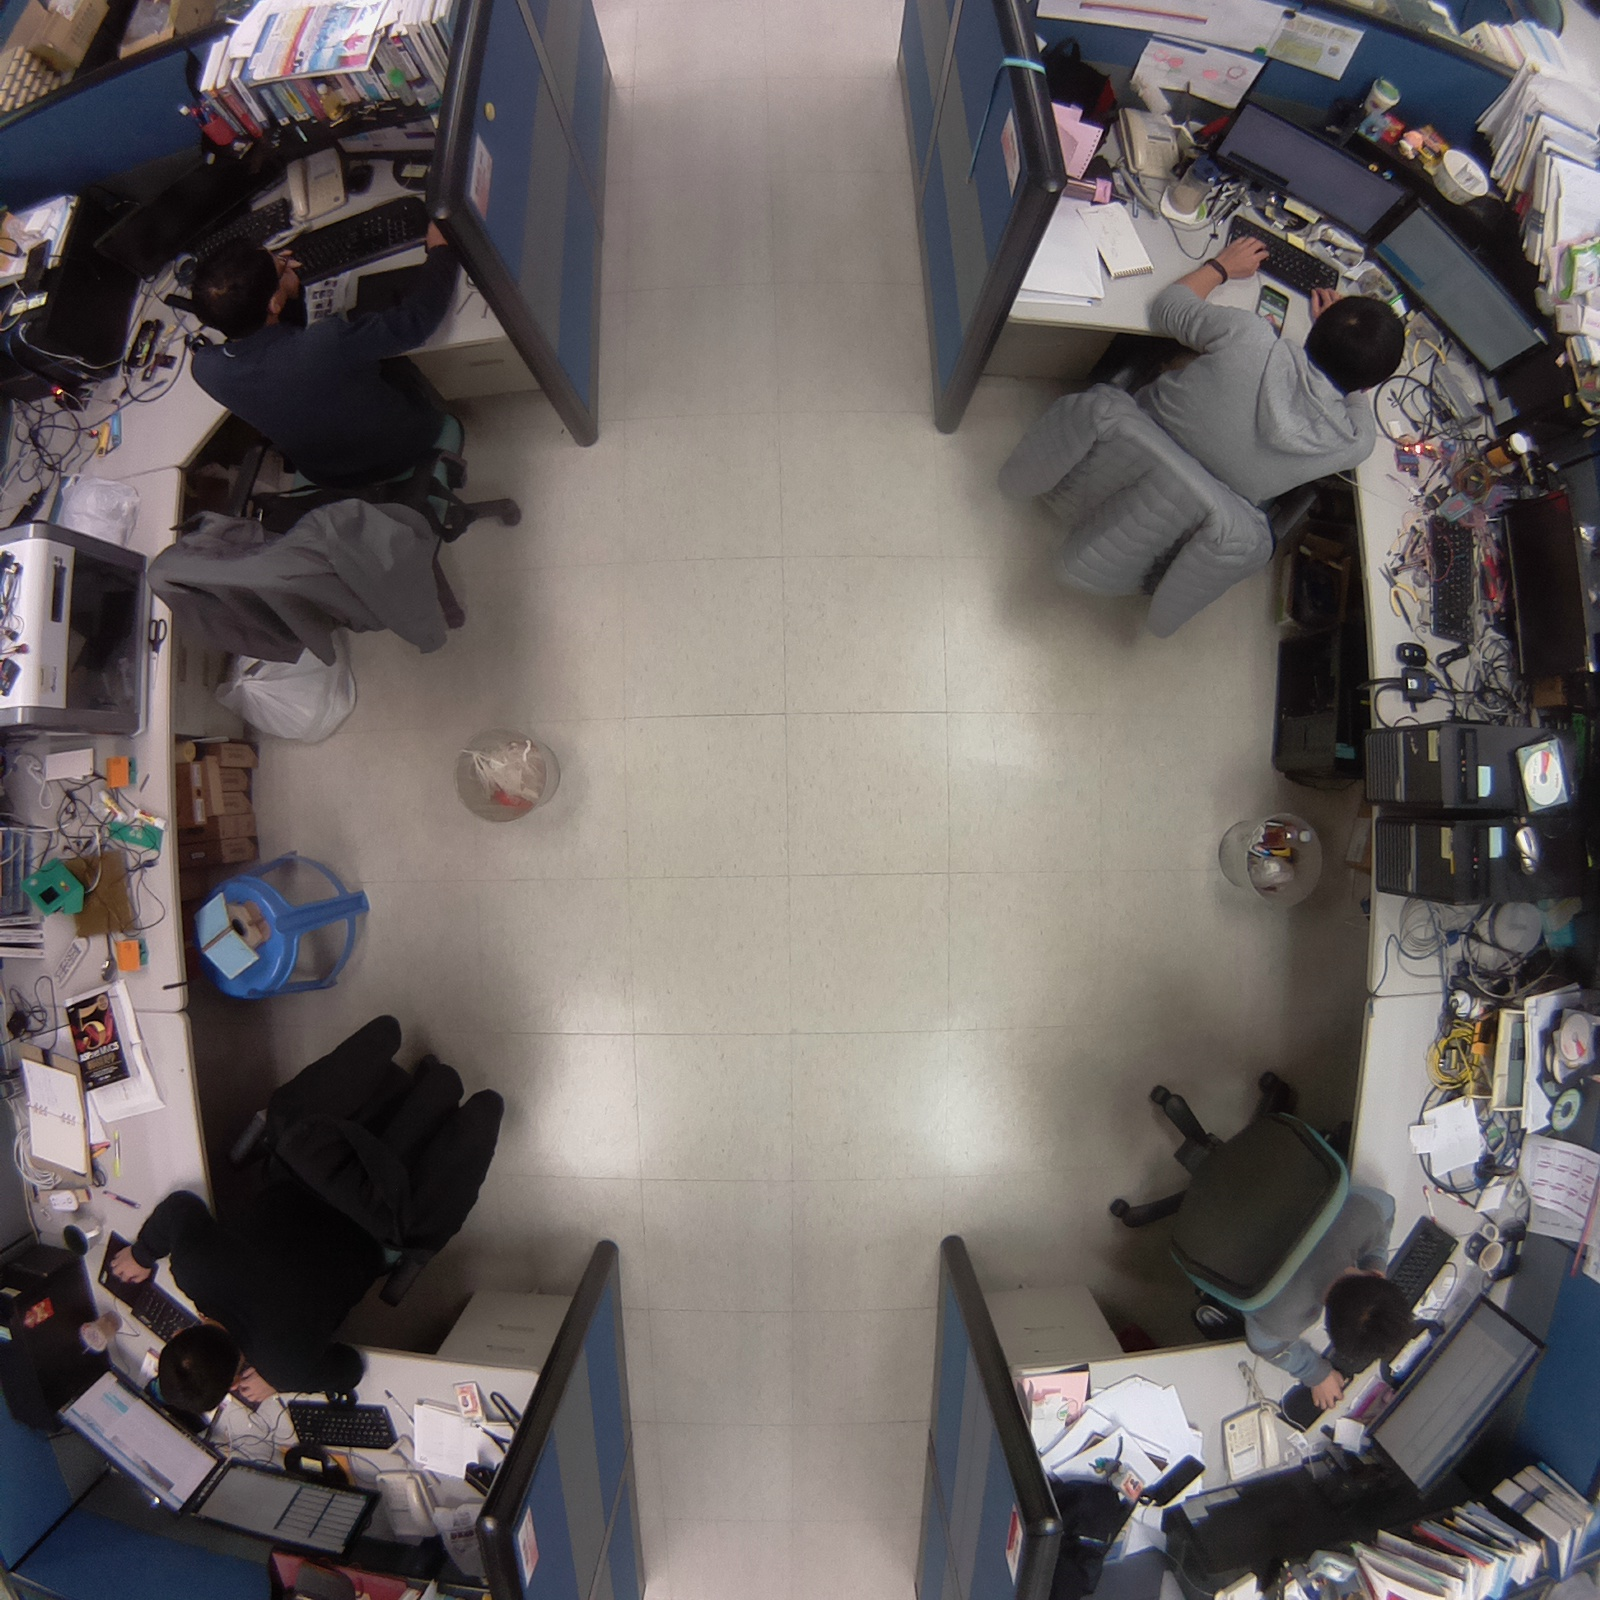head: (1295, 282, 1415, 404), (1317, 1259, 1421, 1374), (151, 1312, 251, 1425), (183, 240, 293, 334)
sitting: (124, 215, 540, 673), (105, 999, 522, 1424), (970, 232, 1390, 650), (1088, 1042, 1418, 1403)
